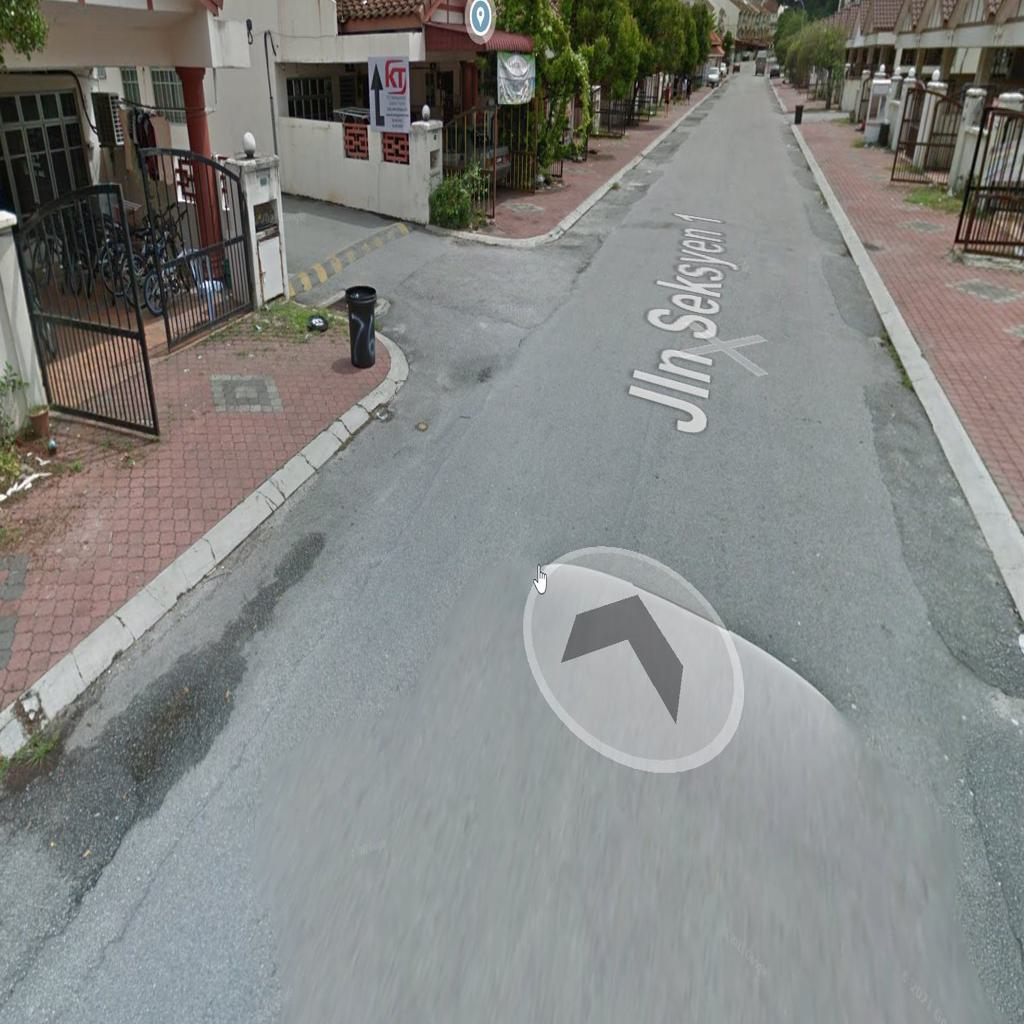Junction: (278, 181, 600, 459)
